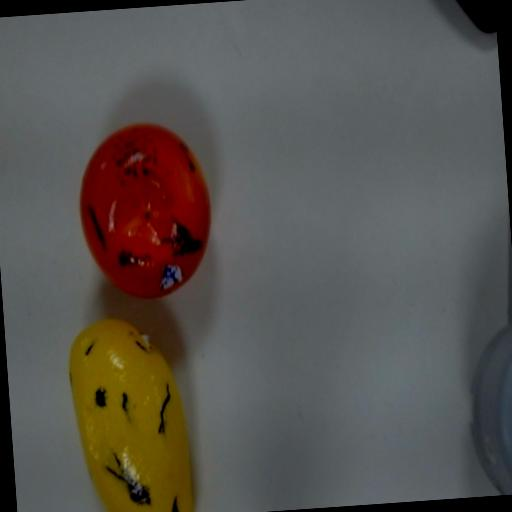Defective: (56, 100, 239, 307), (58, 309, 217, 512)
